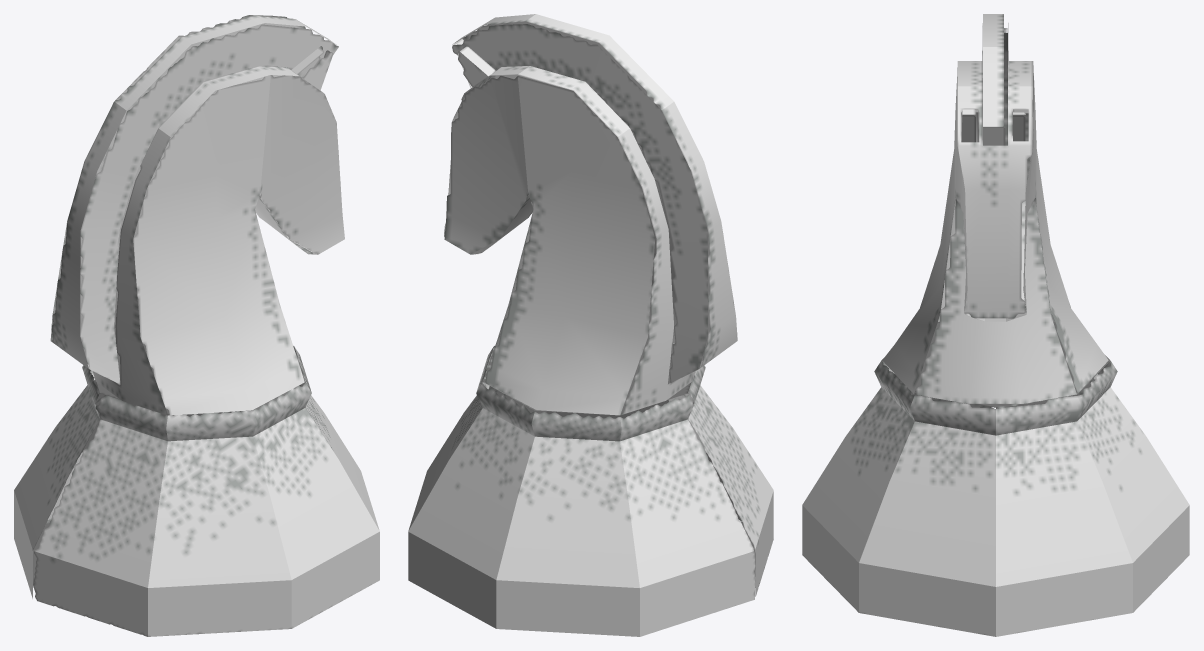
The model's file is Caballo_Pieza.fbx.
The picture shows the model from 3 angles, left to right: view 1: azimuth 30°, elevation 25°; view 2: azimuth 150°, elevation 25°; view 3: azimuth 270°, elevation 25°; orthographic projection. The views are drawn at different scales.
Parts seen in each view (by area): view 1: Caballo_Pieza; view 2: Caballo_Pieza; view 3: Caballo_Pieza.
Boxes of the visible parts, bbox=[...] form: Caballo_Pieza: bbox=[14, 15, 379, 636]; Caballo_Pieza: bbox=[408, 14, 773, 636]; Caballo_Pieza: bbox=[802, 14, 1189, 636].
Bounding box in the file's own units: 24.51 × 37.58 × 24.51.
